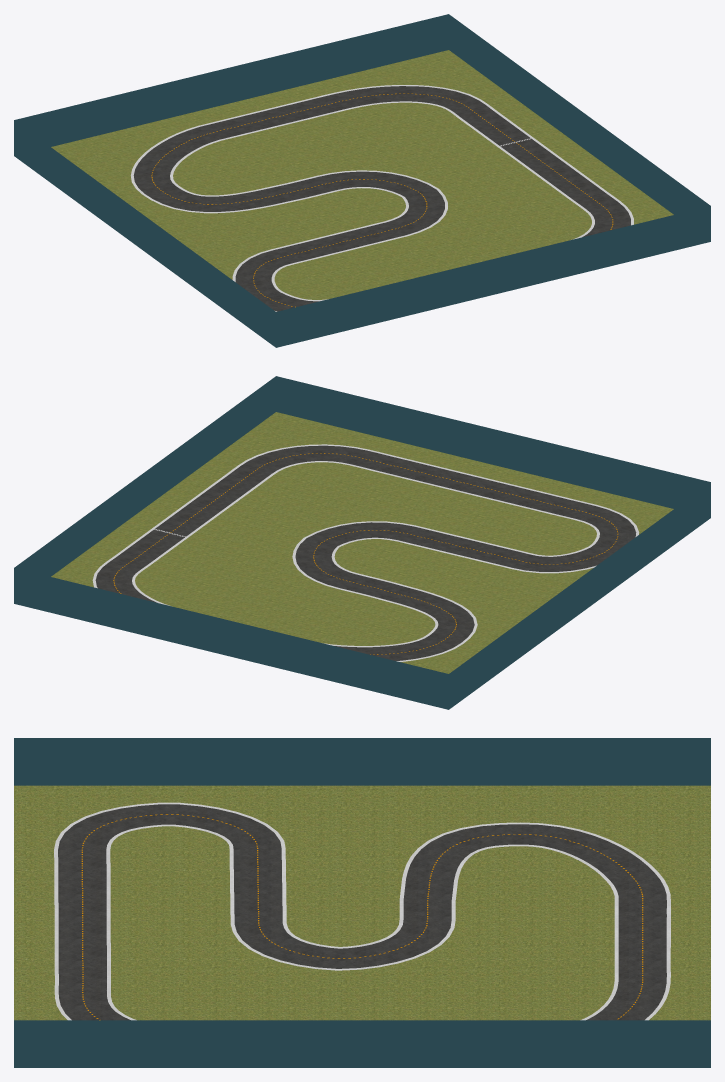
Rendered from 2022_may_open_ccw.dae.
The picture shows the model from 3 angles, top to bottom: view 1: azimuth 30°, elevation 25°; view 2: azimuth 150°, elevation 25°; view 3: azimuth 270°, elevation 25°; orthographic projection. The views are drawn at different scales.
Visible parts, largest first — view 1: field, wall, road, il, ol, cl; view 2: field, wall, road, ol, il, cl; view 3: field, wall, road, il, ol, cl.
Boxes of the visible parts, left/top/right/bottom form: field: left=51, top=50, right=673, bottom=299; wall: left=14, top=14, right=710, bottom=347; road: left=133, top=86, right=630, bottom=311; il: left=130, top=85, right=633, bottom=311; ol: left=170, top=101, right=594, bottom=301; cl: left=151, top=93, right=613, bottom=307; field: left=51, top=412, right=673, bottom=673; wall: left=14, top=376, right=710, bottom=709; road: left=95, top=445, right=636, bottom=660; ol: left=132, top=461, right=599, bottom=647; il: left=92, top=444, right=639, bottom=661; cl: left=113, top=453, right=618, bottom=654; field: left=14, top=785, right=710, bottom=1020; wall: left=14, top=738, right=710, bottom=1067; road: left=58, top=804, right=666, bottom=1020; il: left=54, top=802, right=670, bottom=1020; ol: left=106, top=824, right=618, bottom=1020; cl: left=81, top=814, right=643, bottom=1020.
Size of the model in its own units: 12.68 by 13.24 by 1.
7 materials, 7 textured.
